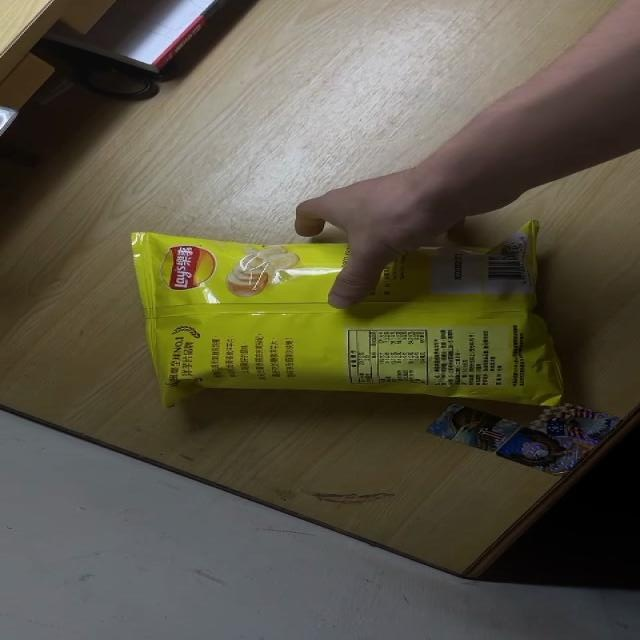Lay-s-original: (130, 219, 562, 411)
